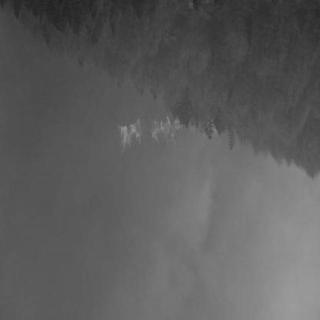Fire: (114, 112, 198, 158)
